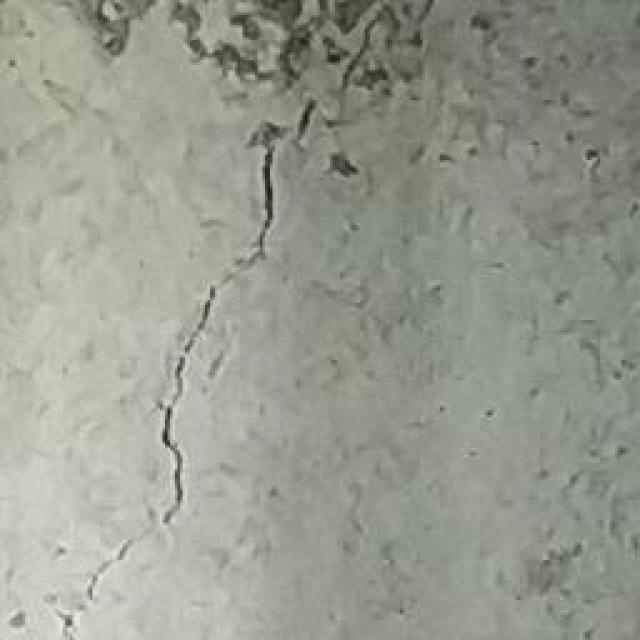Diagonal: (0, 5, 461, 640)
